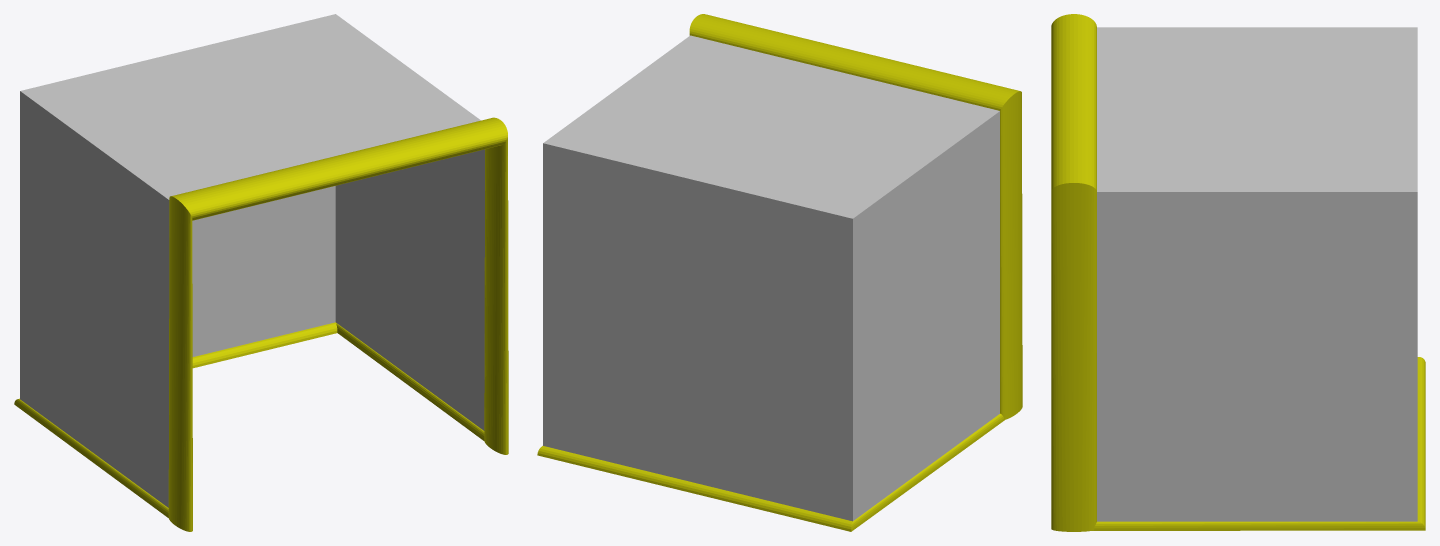
Rendered from leftsoccergoal.obj.
The picture shows the model from 3 angles, left to right: view 1: azimuth 30°, elevation 25°; view 2: azimuth 150°, elevation 25°; view 3: azimuth 270°, elevation 25°; orthographic projection. The views are drawn at different scales.
Parts seen in each view (by area): view 1: NetInner_NetInnerCube, Goalposts_GoalpostTube, NetOuter_NetOuterCube, Groundring_GroundringTube; view 2: NetInner_NetInnerCube, NetOuter_NetOuterCube, Goalposts_GoalpostTube, Groundring_GroundringTube; view 3: NetInner_NetInnerCube, NetOuter_NetOuterCube, Goalposts_GoalpostTube, Groundring_GroundringTube.
Boxes of the visible parts, bbox=[...] form: NetInner_NetInnerCube: bbox=[20, 14, 484, 507]; Goalposts_GoalpostTube: bbox=[168, 117, 508, 531]; NetOuter_NetOuterCube: bbox=[20, 92, 484, 410]; Groundring_GroundringTube: bbox=[14, 322, 484, 517]; NetInner_NetInnerCube: bbox=[543, 35, 999, 521]; NetOuter_NetOuterCube: bbox=[543, 42, 999, 518]; Goalposts_GoalpostTube: bbox=[689, 14, 1022, 419]; Groundring_GroundringTube: bbox=[537, 413, 1004, 531]; NetInner_NetInnerCube: bbox=[1097, 27, 1417, 521]; NetOuter_NetOuterCube: bbox=[1097, 27, 1417, 502]; Goalposts_GoalpostTube: bbox=[1051, 14, 1096, 531]; Groundring_GroundringTube: bbox=[1092, 357, 1425, 530].
Size of the model in its own units: 1.04 by 0.9883 by 0.962.
